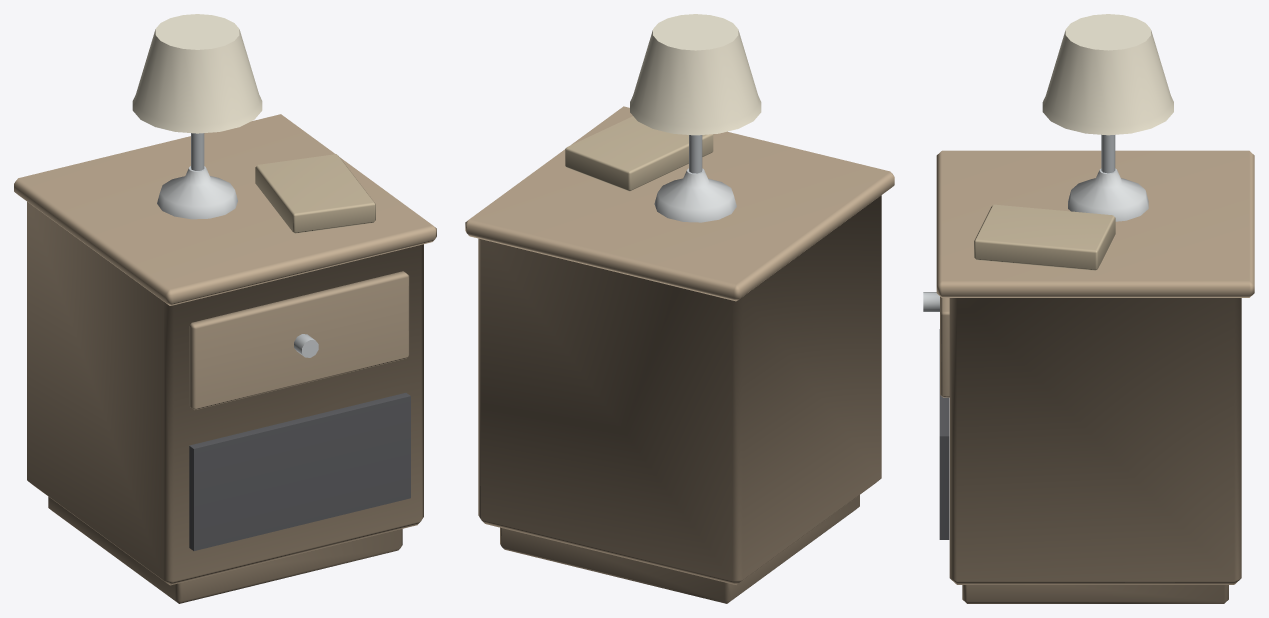
The model's file is nightstand.glb.
3 renders of one model, left to right at view 1: azimuth 30°, elevation 25°; view 2: azimuth 150°, elevation 25°; view 3: azimuth 270°, elevation 25°, orthographic.
Visible parts, largest first — view 1: furn_nightstand; view 2: furn_nightstand; view 3: furn_nightstand.
Part boxes in pixels (bbox=[...]): furn_nightstand: bbox=[14, 14, 436, 603]; furn_nightstand: bbox=[465, 14, 894, 603]; furn_nightstand: bbox=[923, 14, 1254, 603].
Size of the model in its own units: 0.5 by 0.88 by 0.521.
